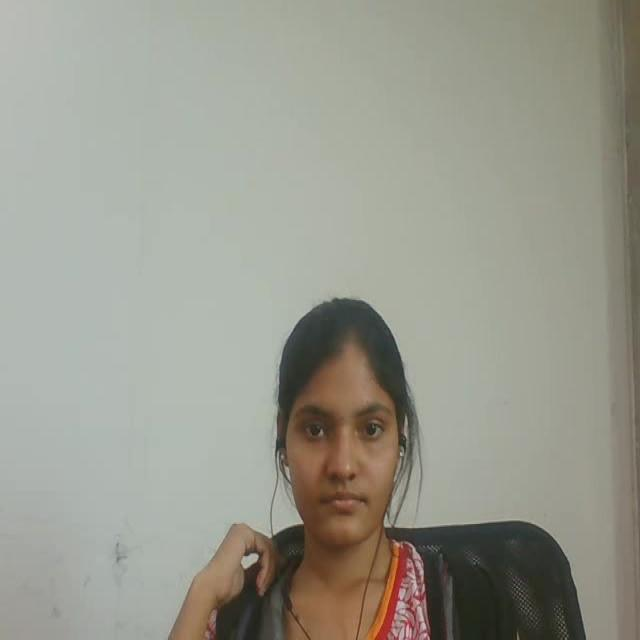Engaged: (265, 266, 431, 572)
